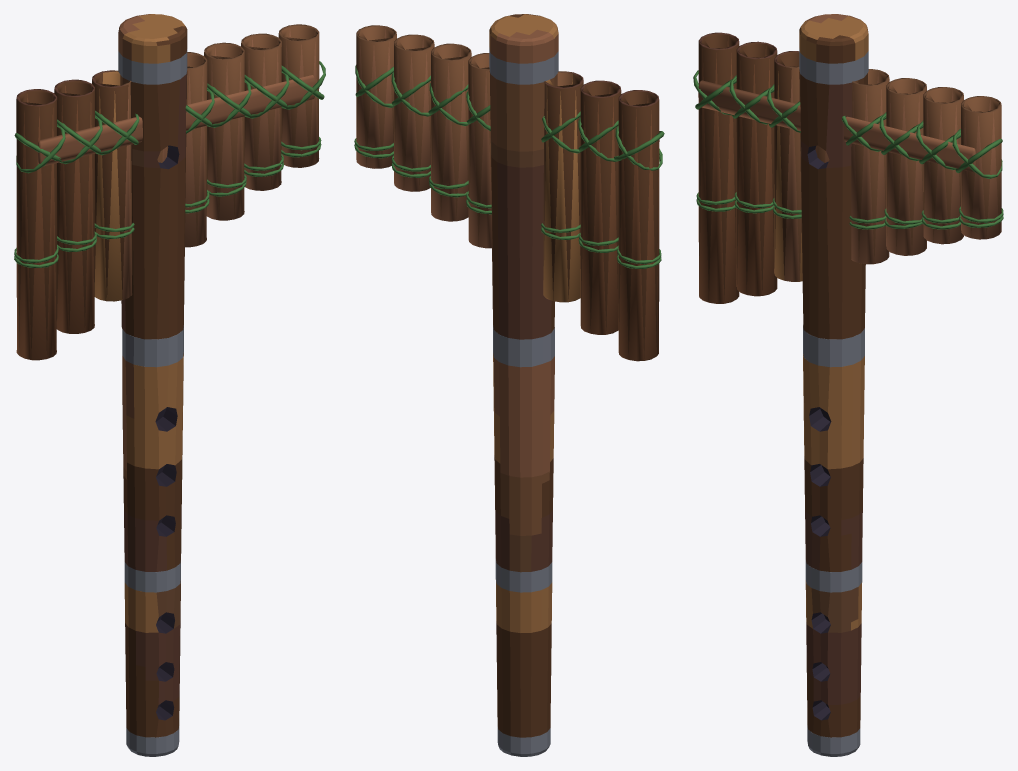
The model's file is flutes.glb.
3 views of the same model, side by side, from view 1: azimuth 30°, elevation 25°; view 2: azimuth 150°, elevation 25°; view 3: azimuth 330°, elevation 25° (orthographic).
Parts seen in each view (by area): view 1: Details; view 2: Details; view 3: Details.
Part boxes in pixels (bbox=[...]): Details: bbox=[14, 14, 325, 756]; Details: bbox=[354, 14, 664, 756]; Details: bbox=[693, 14, 1003, 756].
Bounding box in the file's own units: 0.395 × 0.9 × 0.0789.
